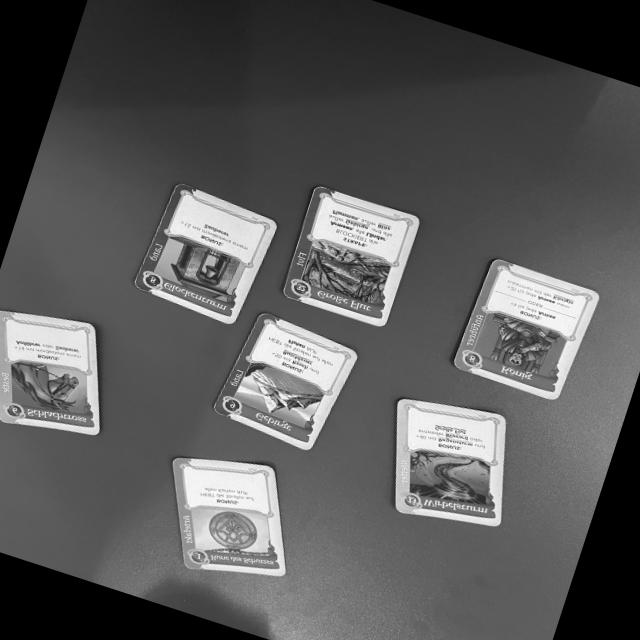Clock Tower: (130, 179, 279, 327)
Great Flood: (281, 177, 421, 329)
King: (449, 253, 602, 404)
Mountain: (210, 309, 362, 457)
Rune Of Protection: (167, 460, 287, 579)
War Horse: (0, 309, 103, 433)
Whirlwind: (391, 398, 511, 530)
